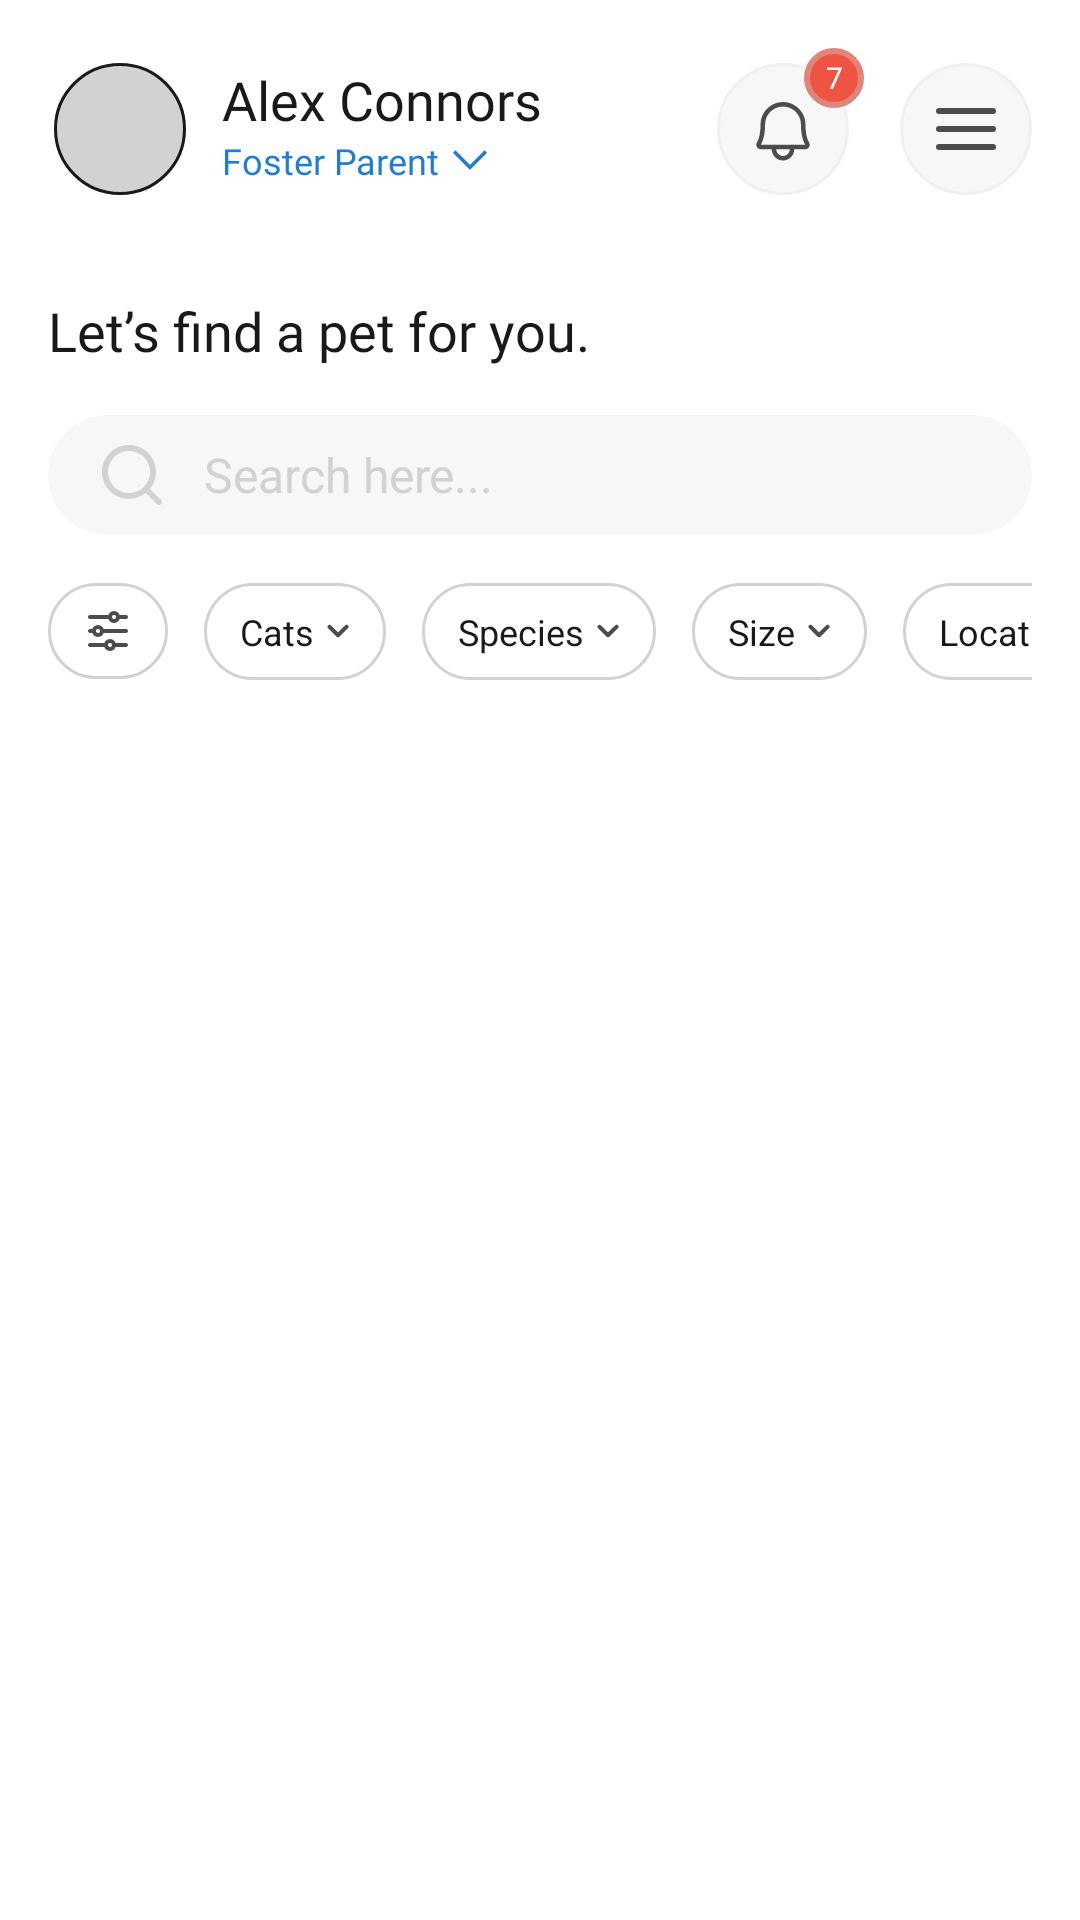

Named icons in this screenshot (1080x1920) and their bounding boxes, (x1, y1, x2, y2):
burger: (936, 108, 996, 150)
filter: (48, 583, 168, 679)
